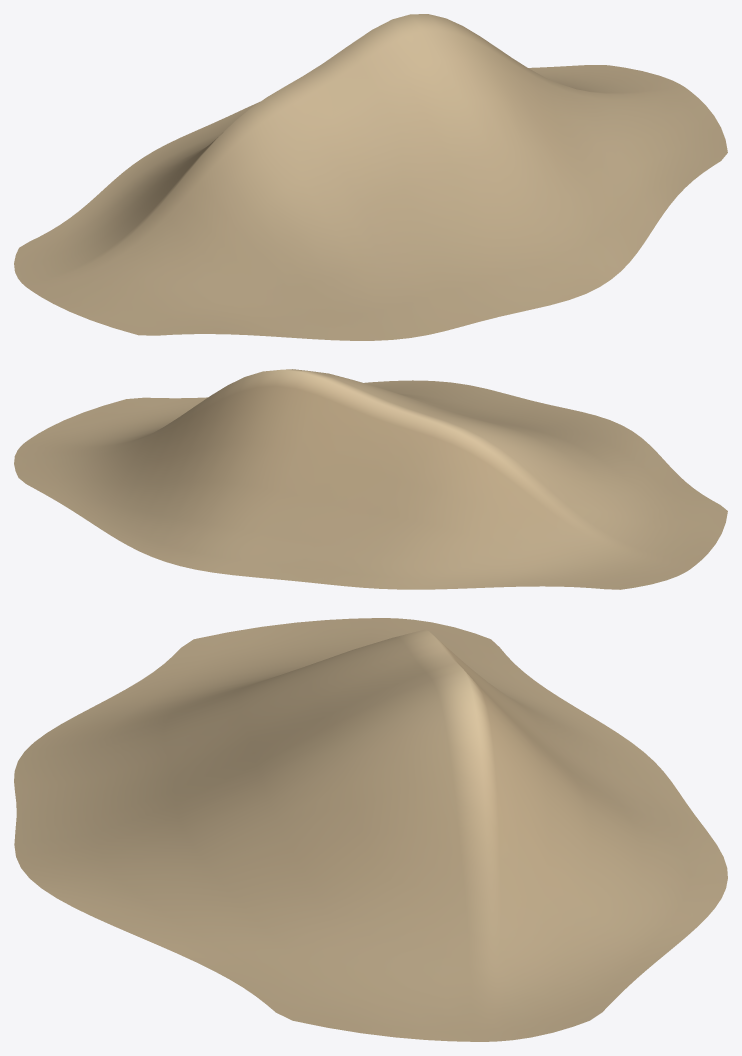
File: SandDune1.fbx
3 views of the same model, one above another, from view 1: azimuth 30°, elevation 25°; view 2: azimuth 150°, elevation 25°; view 3: azimuth 270°, elevation 25° (orthographic). The views are drawn at different scales.
Visible parts, largest first — view 1: SandDune1; view 2: SandDune1; view 3: SandDune1.
Part boxes in pixels (x1,y1,x2,y2): SandDune1: (14,14,727,340); SandDune1: (14,369,727,589); SandDune1: (14,618,727,1041).
Bounding box in the file's own units: 10.2 × 2.04 × 7.26.
